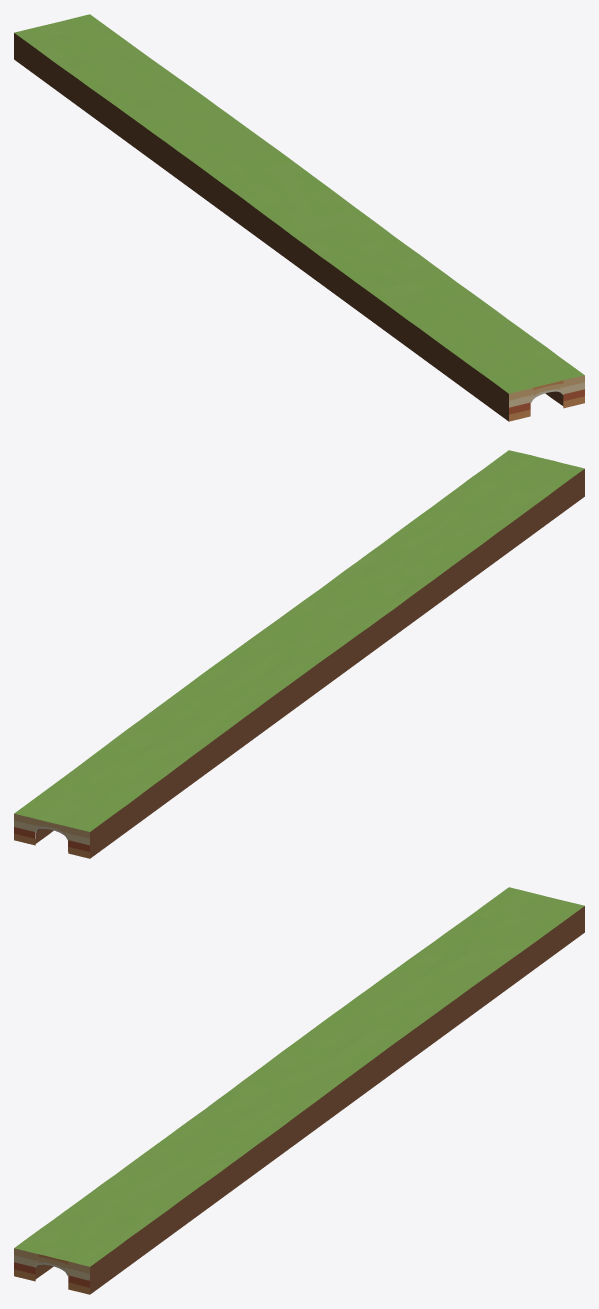
Rendered from tunel_18g1.glb.
The picture shows the model from 3 angles, top to bottom: view 1: azimuth 30°, elevation 25°; view 2: azimuth 150°, elevation 25°; view 3: azimuth 330°, elevation 25°; orthographic projection.
Parts seen in each view (by area): view 1: tunel_18g1; view 2: tunel_18g1; view 3: tunel_18g1.
Part boxes in pixels (x1=…): tunel_18g1: x1=14, y1=14, x2=584, y2=421; tunel_18g1: x1=14, y1=450, x2=584, y2=858; tunel_18g1: x1=14, y1=887, x2=584, y2=1294.
Bounding box in the file's own units: 84 × 30.18 × 948.
